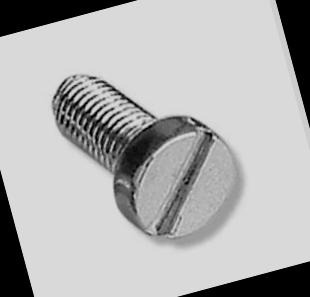slotted: (98, 102, 250, 254)
